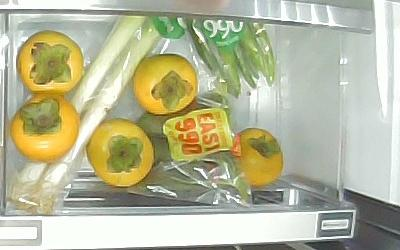persimmon: (9, 93, 78, 161), (86, 118, 154, 186), (17, 30, 83, 95), (133, 53, 197, 115), (232, 128, 285, 185)
